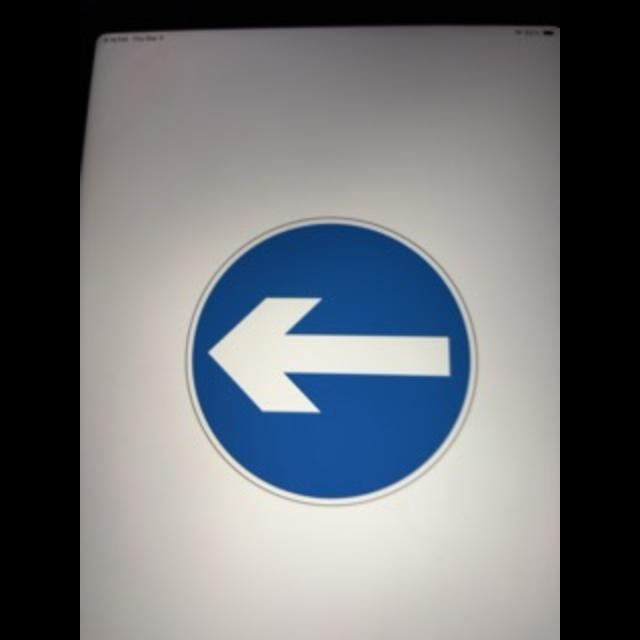TURN LEFT: (185, 216, 479, 507)
